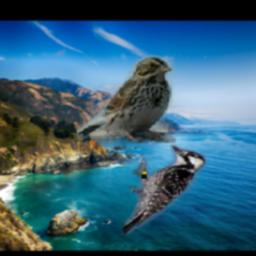Sparrow: (77, 55, 176, 143)
Woodpecker: (121, 145, 206, 234)
